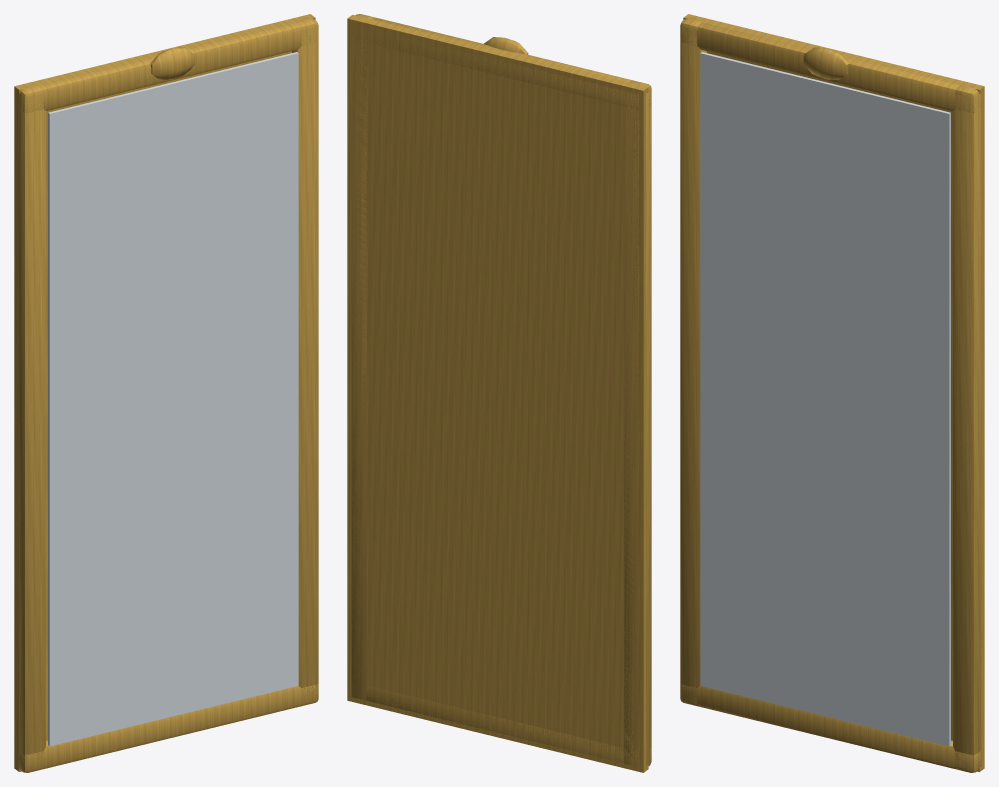
The model's file is espelho-de-parede.glb.
3 views of the same model, side by side, from view 1: azimuth 30°, elevation 25°; view 2: azimuth 150°, elevation 25°; view 3: azimuth 330°, elevation 25° (orthographic).
Parts seen in each view (by area): view 1: vidro, montante, montante.001, fundo, travessa, travessa.001, florao; view 2: fundo, montante, montante.001, travessa.001, travessa; view 3: vidro, montante.001, montante, travessa, fundo, travessa.001, florao.
Part boxes in pixels (bbox=[...]): vidro: bbox=[48, 52, 298, 746]; montante: bbox=[16, 84, 45, 772]; montante.001: bbox=[292, 17, 318, 706]; fundo: bbox=[14, 14, 315, 771]; travessa: bbox=[17, 22, 316, 112]; travessa.001: bbox=[19, 683, 318, 772]; florao: bbox=[150, 47, 195, 80]; fundo: bbox=[347, 15, 648, 772]; montante: bbox=[624, 80, 651, 766]; montante.001: bbox=[351, 14, 374, 700]; travessa.001: bbox=[354, 685, 651, 766]; travessa: bbox=[351, 17, 651, 109]; vidro: bbox=[700, 52, 950, 746]; montante.001: bbox=[953, 83, 982, 772]; montante: bbox=[680, 17, 706, 706]; travessa: bbox=[680, 22, 982, 112]; fundo: bbox=[683, 14, 984, 771]; travessa.001: bbox=[680, 683, 981, 772]; florao: bbox=[803, 47, 848, 80].
Bounding box in the file's own units: 1 × 2.23 × 0.0838.
2 materials, 1 textured.
